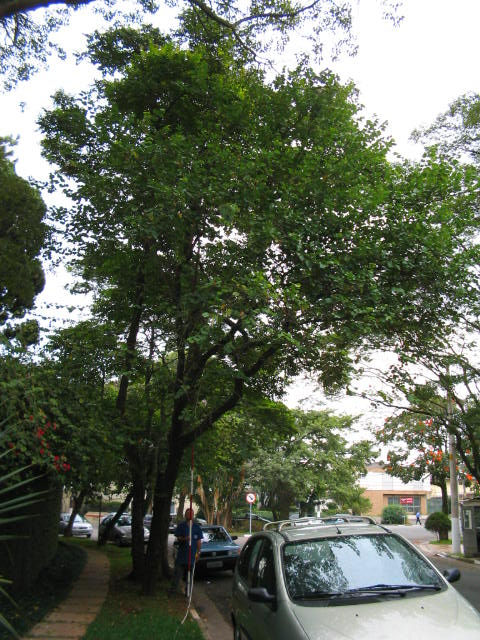crown: (40, 45, 475, 399)
stem: (142, 439, 187, 596)
stick: (181, 447, 200, 599)
tree: (37, 44, 479, 597)
